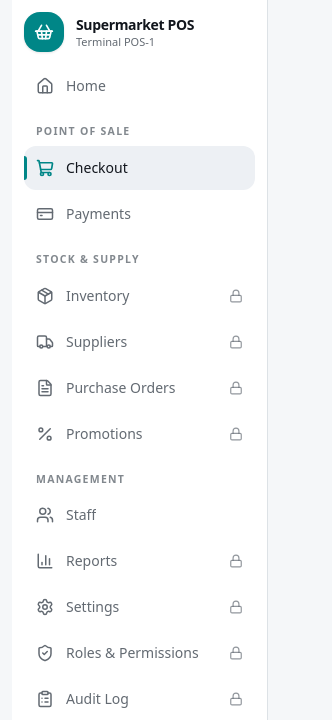
Test: Sidebar navigation guard › navigates normally when no guard is installed
Click the link "Home".
click(71, 86)  # box [36,76,106,95]
(page scrolled)
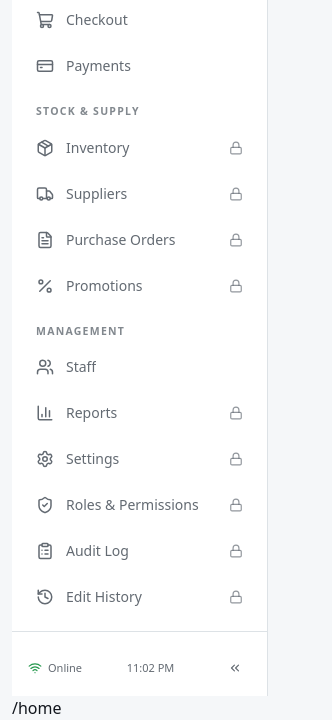
Now the text with test id "location-display" reads "/home", box [12,697,62,719]
